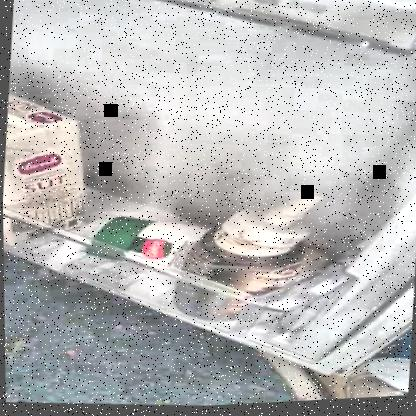milk: (1, 82, 91, 239)
